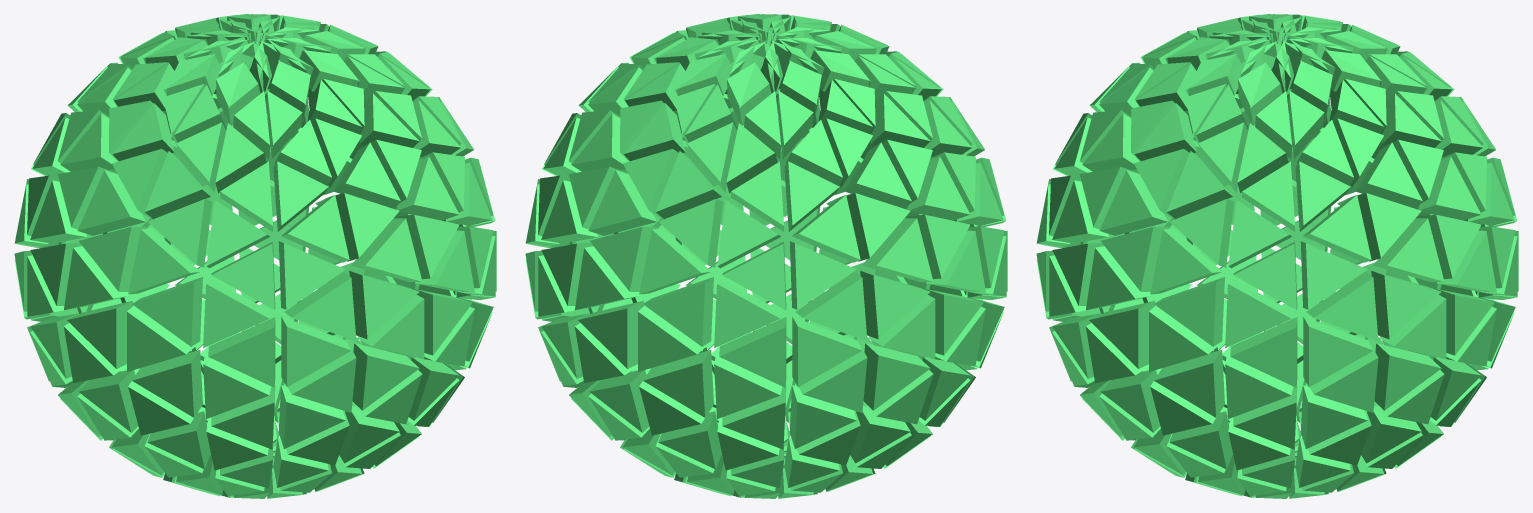
The model's file is Triangulated_Sphere.glb.
3 views of the same model, side by side, from view 1: azimuth 30°, elevation 25°; view 2: azimuth 150°, elevation 25°; view 3: azimuth 270°, elevation 25° (orthographic).
Visible parts, largest first — view 1: Object_231, Object_266, Object_248, Object_264, Object_230, Object_247, Object_215, Object_213, Object_263, Object_212, Object_249, Object_265 (+98 smaller); view 2: Object_27, Object_62, Object_44, Object_60, Object_26, Object_43, Object_11, Object_9, Object_59, Object_8, Object_45, Object_61 (+98 smaller); view 3: Object_129, Object_164, Object_146, Object_162, Object_128, Object_145, Object_113, Object_111, Object_161, Object_110, Object_147, Object_163 (+98 smaller).
Part boxes in pixels (left/top/right/bottom): Object_231: left=281, top=316, right=351, bottom=387; Object_266: left=132, top=350, right=202, bottom=417; Object_248: left=208, top=317, right=275, bottom=387; Object_264: left=132, top=277, right=202, bottom=346; Object_230: left=284, top=272, right=356, bottom=341; Object_247: left=203, top=277, right=272, bottom=347; Object_215: left=352, top=343, right=419, bottom=410; Object_213: left=349, top=270, right=419, bottom=339; Object_263: left=128, top=228, right=200, bottom=294; Object_212: left=351, top=218, right=422, bottom=281; Object_249: left=203, top=350, right=271, bottom=418; Object_265: left=127, top=306, right=196, bottom=371; Object_27: left=792, top=316, right=862, bottom=387; Object_62: left=643, top=350, right=713, bottom=417; Object_44: left=719, top=317, right=786, bottom=387; Object_60: left=643, top=277, right=713, bottom=346; Object_26: left=795, top=272, right=867, bottom=341; Object_43: left=714, top=277, right=783, bottom=347; Object_11: left=863, top=343, right=930, bottom=410; Object_9: left=860, top=270, right=930, bottom=339; Object_59: left=639, top=228, right=711, bottom=294; Object_8: left=862, top=218, right=933, bottom=281; Object_45: left=714, top=350, right=782, bottom=418; Object_61: left=638, top=306, right=707, bottom=371; Object_129: left=1303, top=316, right=1373, bottom=387; Object_164: left=1154, top=350, right=1224, bottom=417; Object_146: left=1230, top=317, right=1297, bottom=387; Object_162: left=1154, top=277, right=1224, bottom=346; Object_128: left=1306, top=272, right=1378, bottom=341; Object_145: left=1225, top=277, right=1294, bottom=347; Object_113: left=1374, top=343, right=1441, bottom=410; Object_111: left=1371, top=270, right=1441, bottom=339; Object_161: left=1150, top=228, right=1222, bottom=294; Object_110: left=1373, top=218, right=1444, bottom=281; Object_147: left=1225, top=350, right=1293, bottom=418; Object_163: left=1149, top=306, right=1218, bottom=371.
Size of the model in its own units: 1552 by 1562 by 1554.
